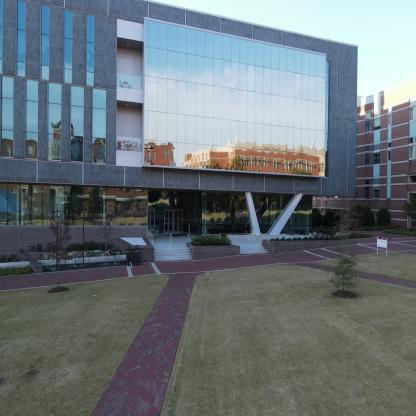EB-1: (375, 84, 412, 258)
Fitts- Woolard: (0, 4, 370, 293)
